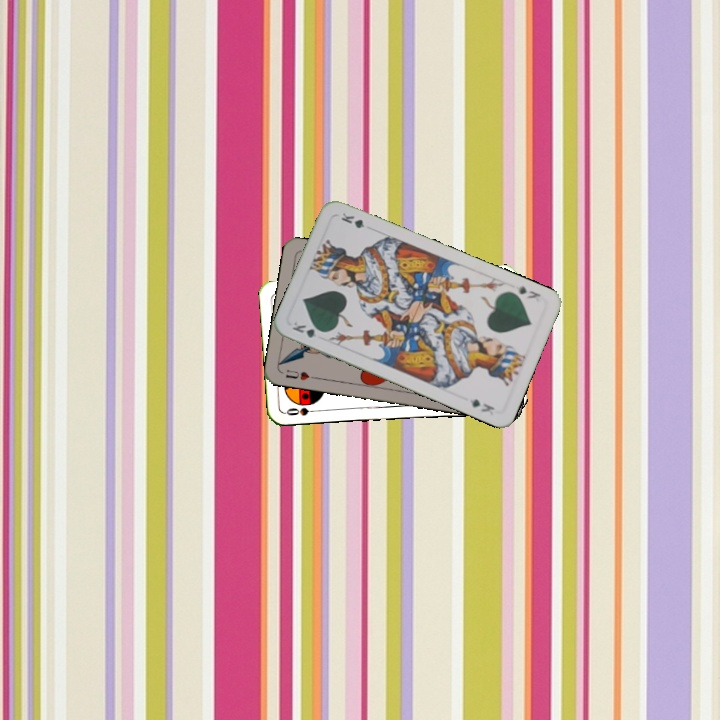GK: (288, 318, 328, 340), (514, 282, 544, 302)
HU: (281, 366, 319, 383)
SO: (282, 404, 322, 418)
